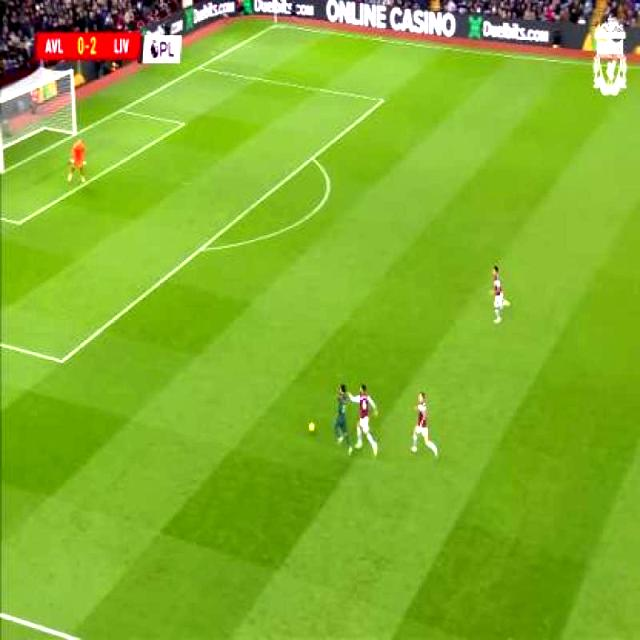bigarea_bottom_inner: (56, 348, 74, 376)
bigarea_top_inner: (375, 88, 390, 115)
bigarea_top_outter: (12, 212, 28, 238), (195, 64, 205, 74)
bottom_arc_area_intersection: (195, 235, 212, 262)
corner: (272, 21, 285, 29)
smallarea_top_inner: (176, 112, 189, 138)
smallarea_top_outter: (115, 104, 128, 118)
top_arc_area_intersection: (308, 144, 318, 172)
